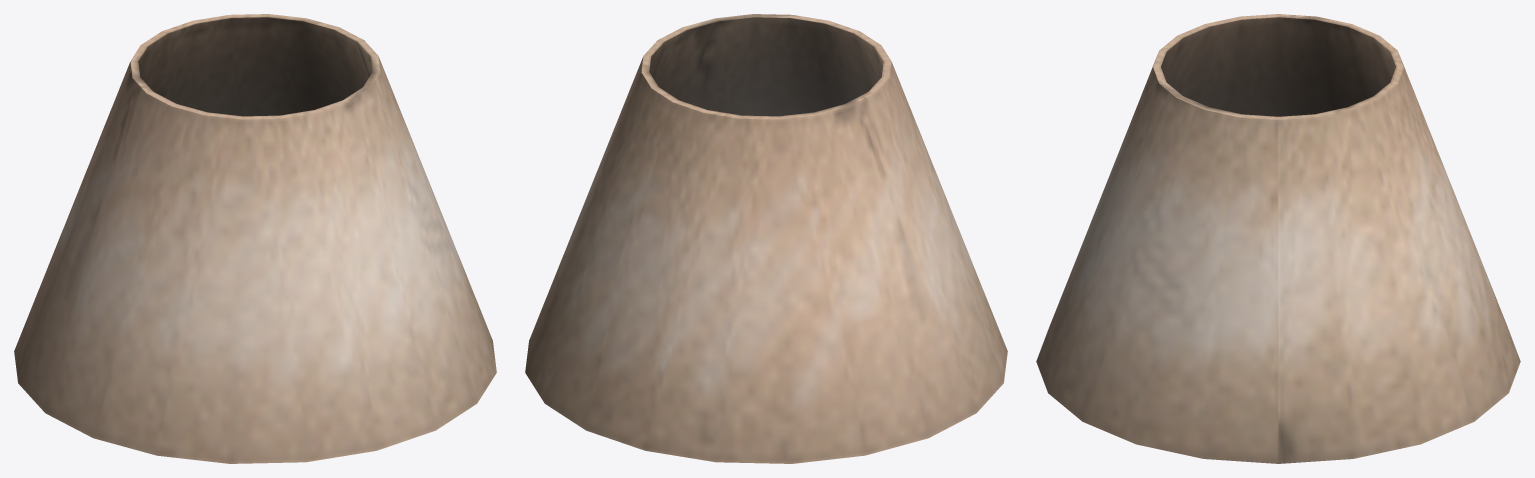
The model's file is abatjour.fbx.
3 renders of one model, left to right at view 1: azimuth 30°, elevation 25°; view 2: azimuth 150°, elevation 25°; view 3: azimuth 270°, elevation 25°, orthographic.
Parts seen in each view (by area): view 1: abatjour; view 2: abatjour; view 3: abatjour.
Part boxes in pixels (x1,y1,x2,y2): abatjour: (14, 14, 496, 463); abatjour: (525, 14, 1007, 463); abatjour: (1036, 14, 1520, 463).
Bounding box in the file's own units: 35.01 × 23.48 × 35.01.
